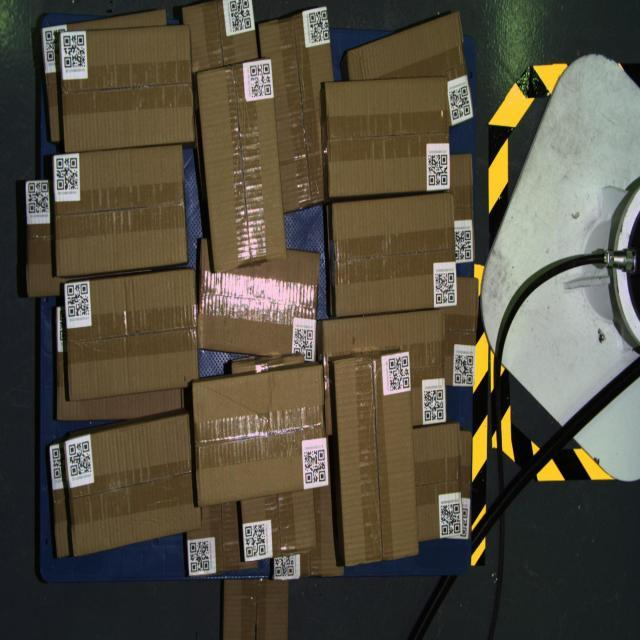box: (64, 413, 202, 557), (196, 58, 288, 273), (192, 365, 329, 507), (334, 350, 419, 566), (64, 268, 198, 402), (53, 145, 188, 276), (59, 24, 194, 152), (332, 192, 457, 316), (325, 76, 450, 198)
